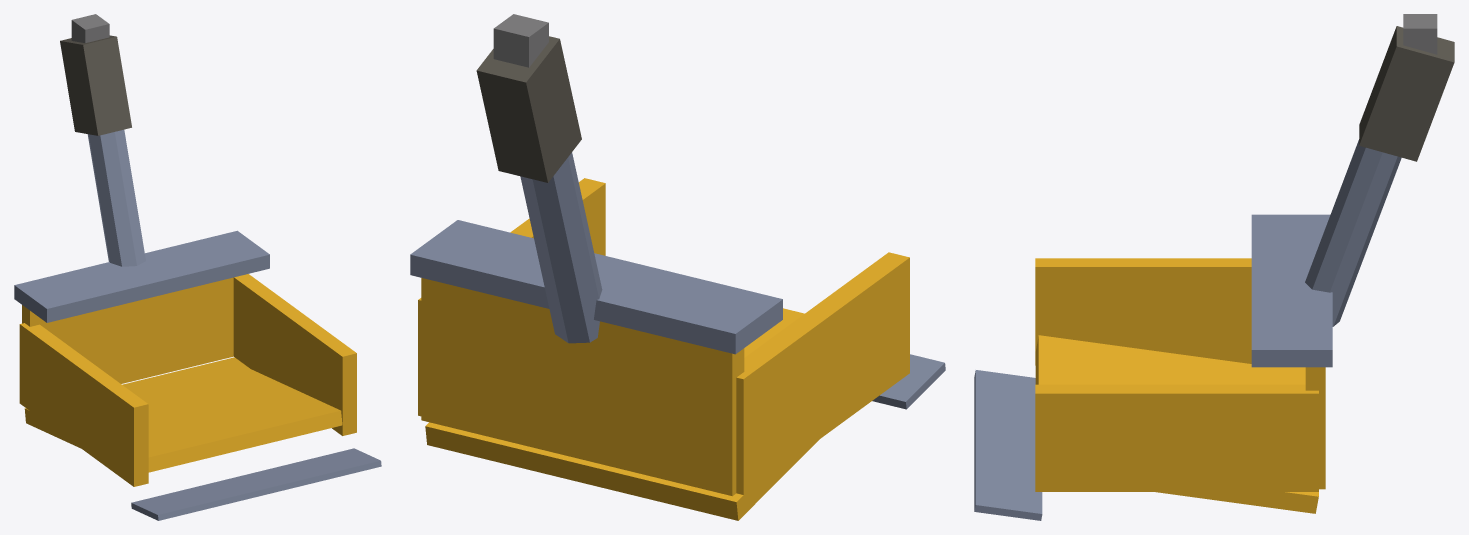
The model's file is dustpan.glb.
3 renders of one model, left to right at view 1: azimuth 30°, elevation 25°; view 2: azimuth 150°, elevation 25°; view 3: azimuth 270°, elevation 25°, orthographic. The views are drawn at different scales.
Parts seen in each view (by area): view 1: dustpan; view 2: dustpan; view 3: dustpan.
Part boxes in pixels (<box>): dustpan: <box>14,14,381,520</box>; dustpan: <box>410,14,945,520</box>; dustpan: <box>974,14,1454,520</box>.
Size of the model in its own units: 0.5 by 0.7447 by 0.75.
